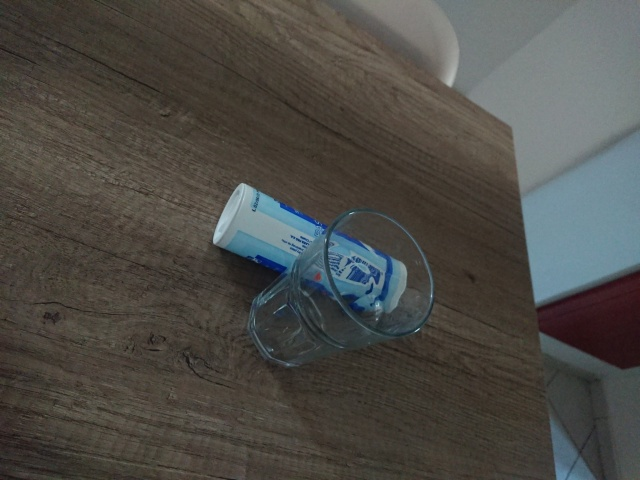Solana Pag Fine Sea Salt 250g: (208, 179, 412, 321)
